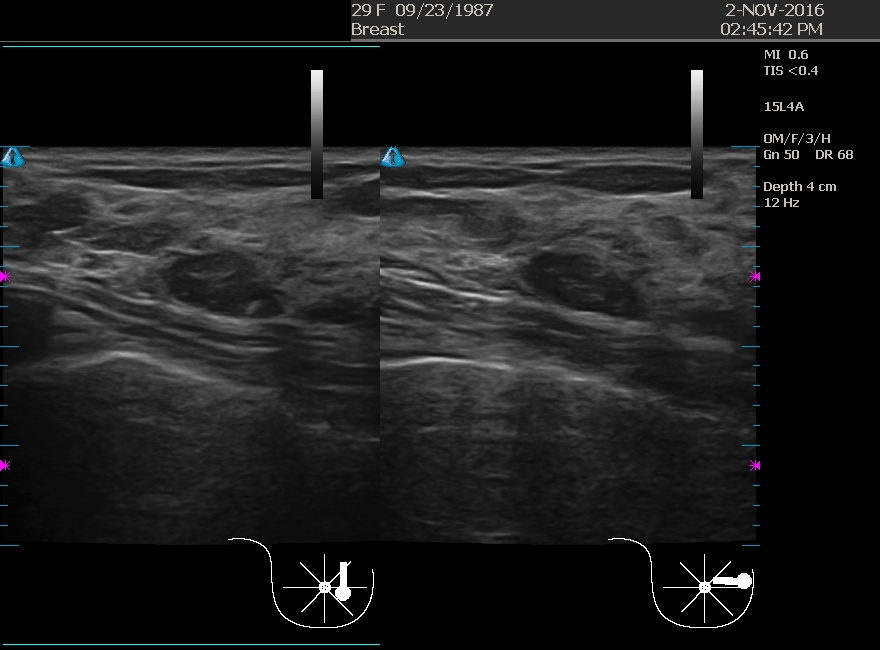BIRADS_2: (112, 200, 312, 400)
BIRADS_3: (483, 201, 683, 401)
